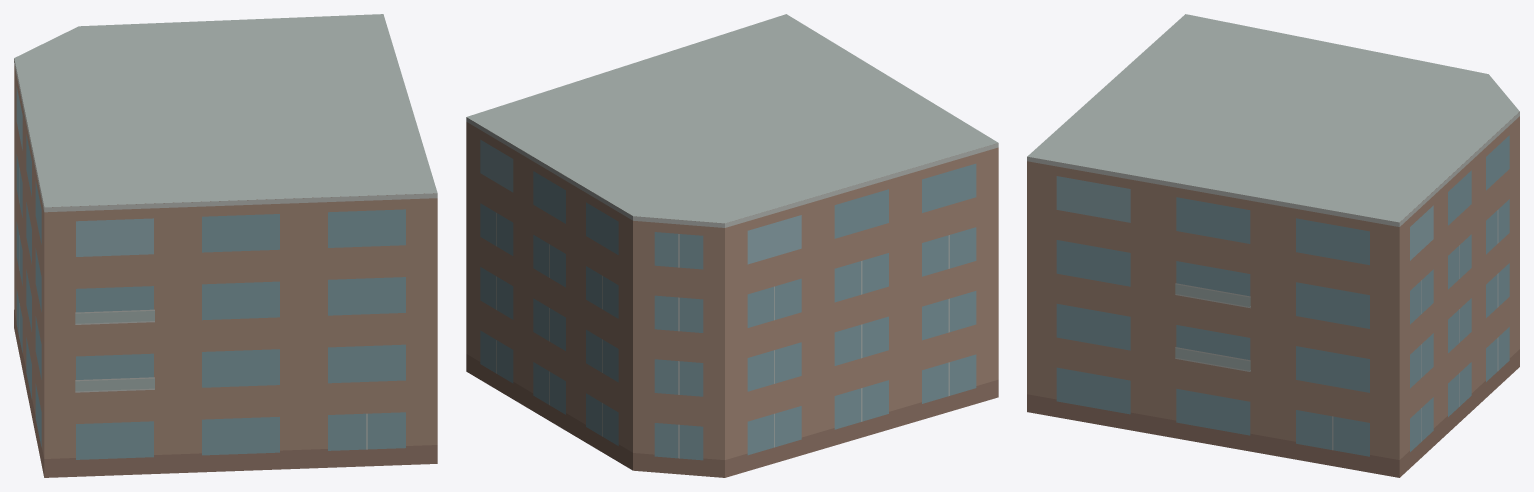
The model's file is survey-upis-32484844.glb.
3 views of the same model, side by side, from view 1: azimuth 30°, elevation 25°; view 2: azimuth 150°, elevation 25°; view 3: azimuth 270°, elevation 25° (orthographic). The views are drawn at different scales.
Visible parts, largest first — view 1: survey-upis-32484844.tmp; view 2: survey-upis-32484844.tmp; view 3: survey-upis-32484844.tmp.
Boxes of the visible parts, <box> form: survey-upis-32484844.tmp: <box>14,14,437,477</box>; survey-upis-32484844.tmp: <box>466,14,998,477</box>; survey-upis-32484844.tmp: <box>1027,14,1519,477</box>.
Bounding box in the file's own units: 23.64 × 13.5 × 23.61.
